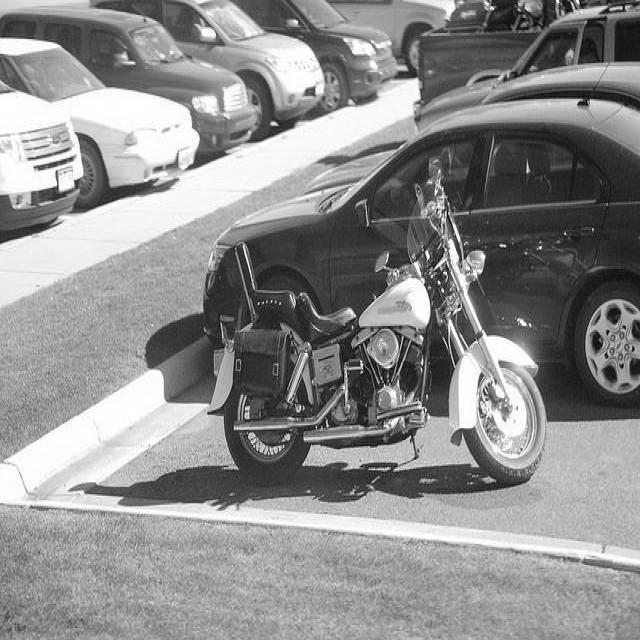vehicle: (201, 93, 640, 410), (205, 147, 549, 485), (299, 57, 639, 195), (2, 2, 256, 151), (0, 39, 202, 211), (90, 3, 326, 143), (409, 2, 640, 128), (416, 0, 614, 103), (236, 2, 402, 117), (0, 77, 84, 231), (332, 1, 448, 79)
